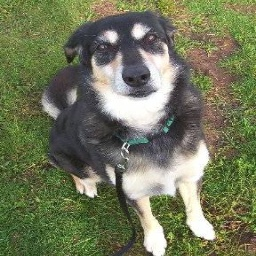dog: (41, 12, 216, 256)
